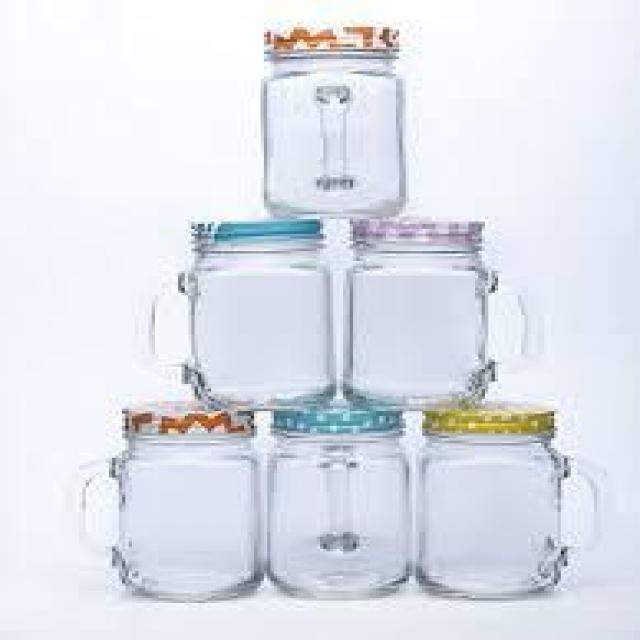non-organic waste: (63, 399, 267, 603), (409, 402, 610, 602), (142, 217, 336, 406), (338, 217, 536, 401), (244, 18, 419, 226), (262, 408, 418, 600)
